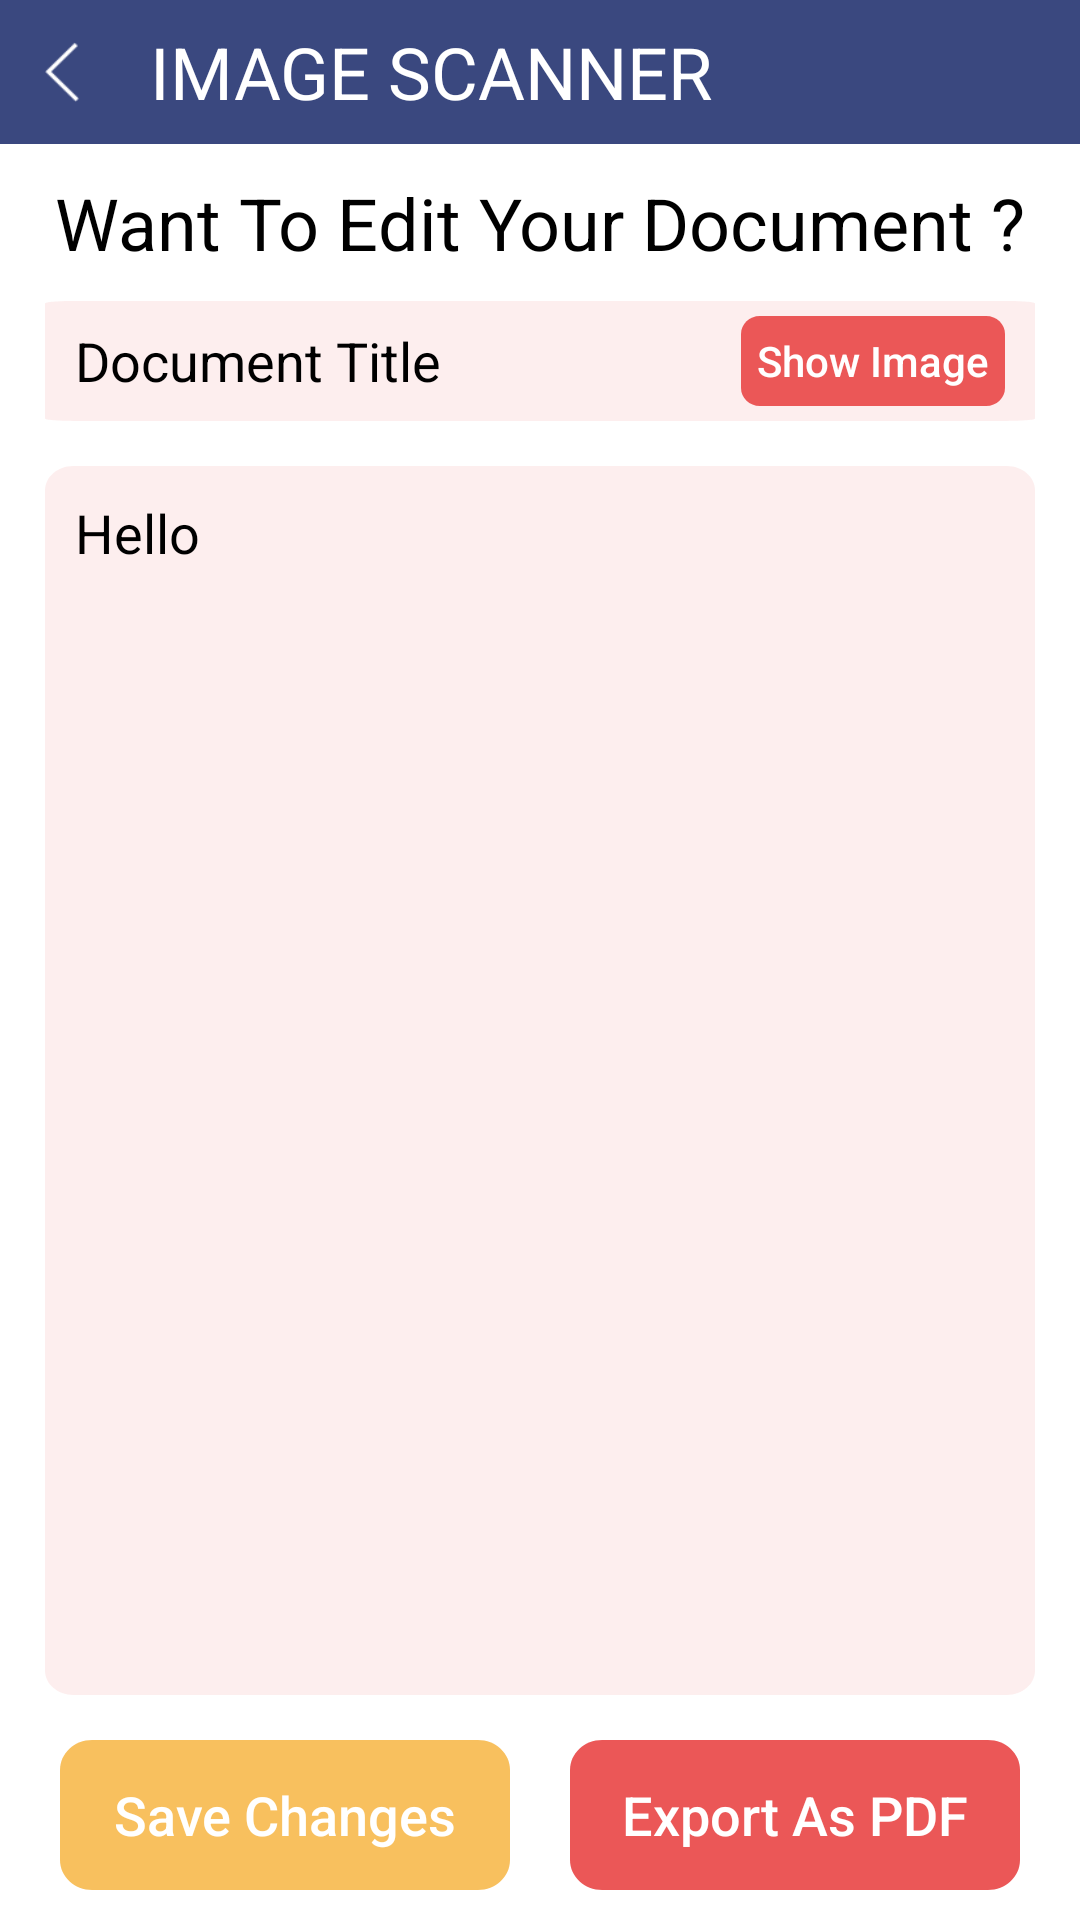

Icons on this 1080*1920 Android screen, each with the point to tap as [x,y]:
back: [62,72]
